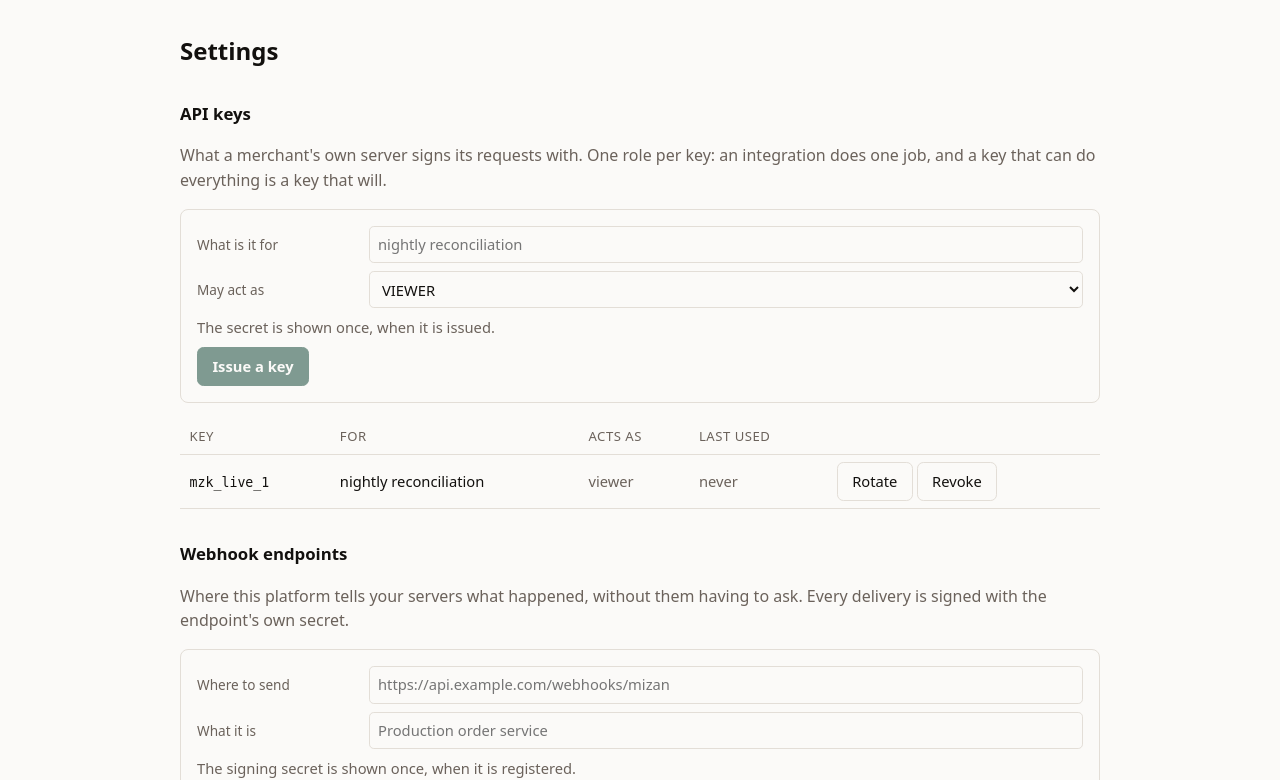
Test: keys › shows a replacement secret when a key is rotated
Check: the text "nightly reconciliation" is shown, box [330,454,579,509]
Step 1. Click the button "Rotate" → (875, 482), box [837,462,913,501]
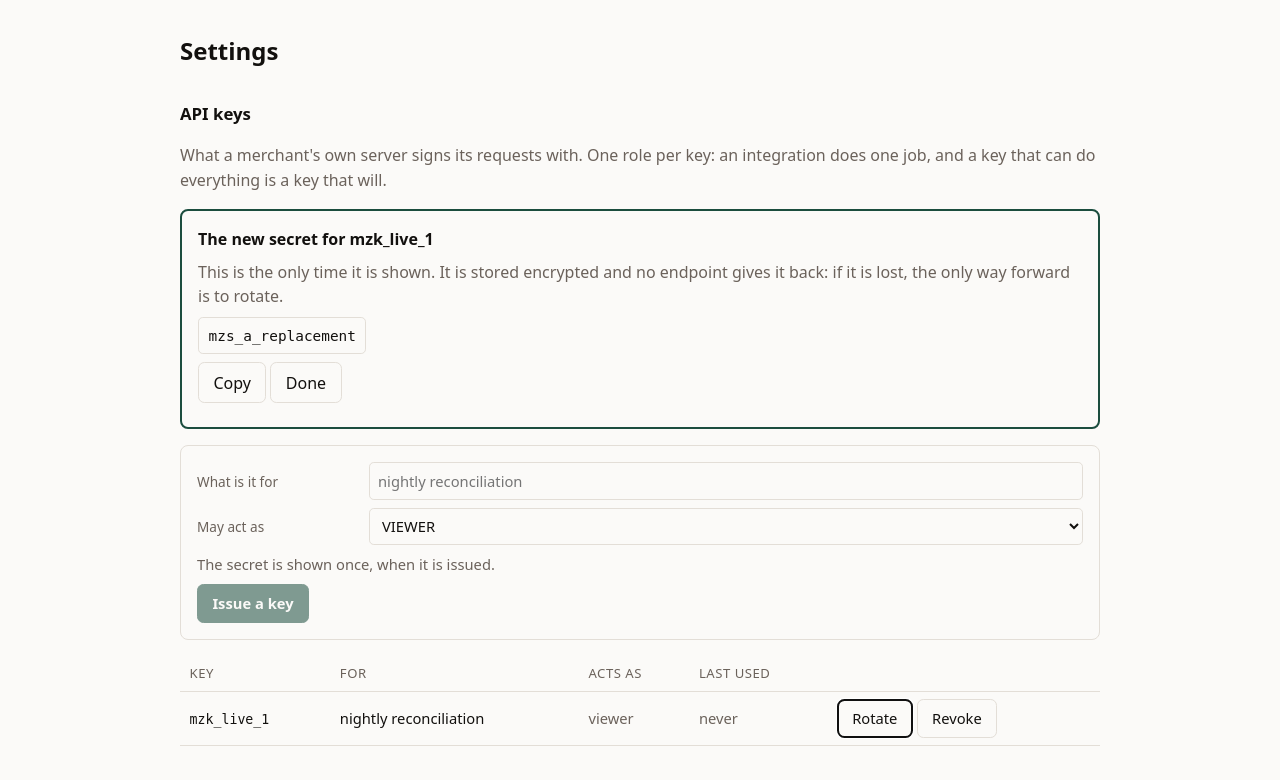
Check: the text "mzs_a_replacement" is shown, box [198,317,366,354]
